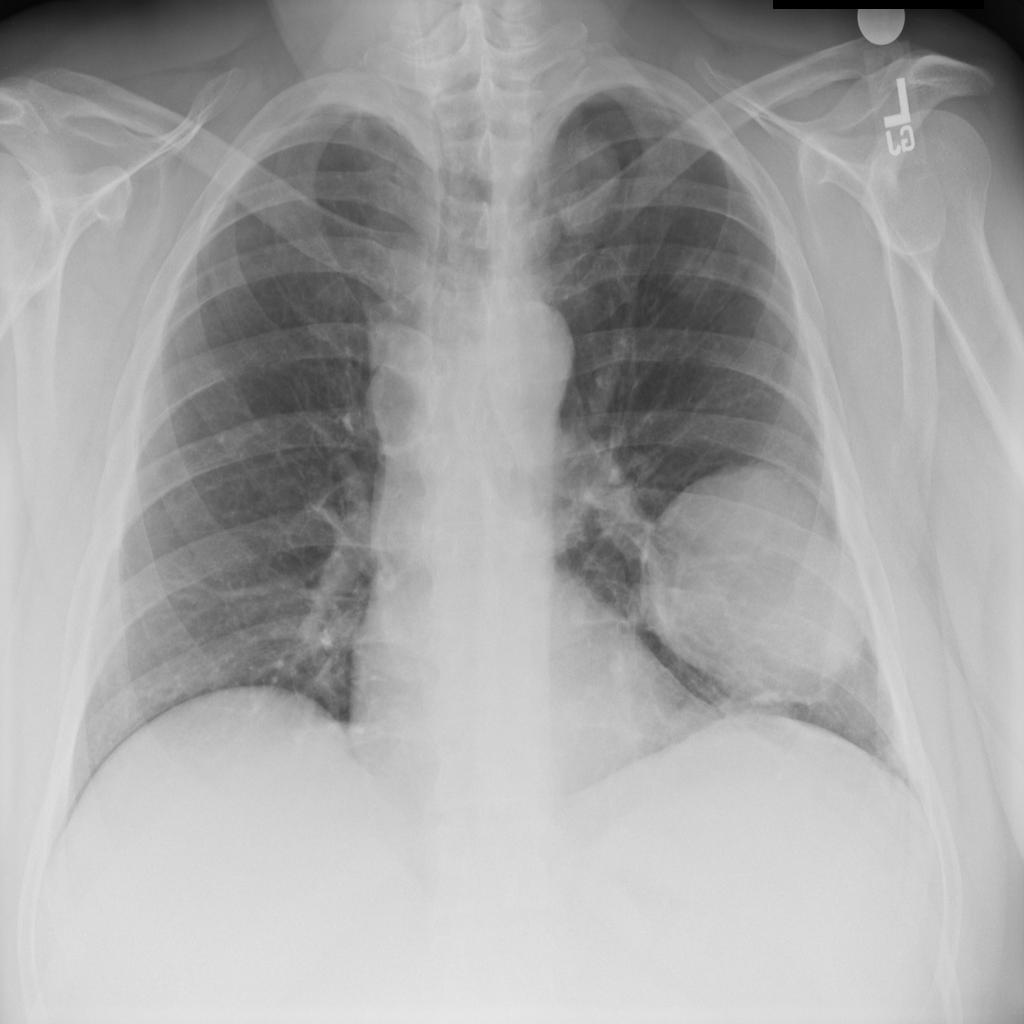nodule: (634, 443, 898, 724), (535, 114, 633, 242), (661, 214, 756, 315)
